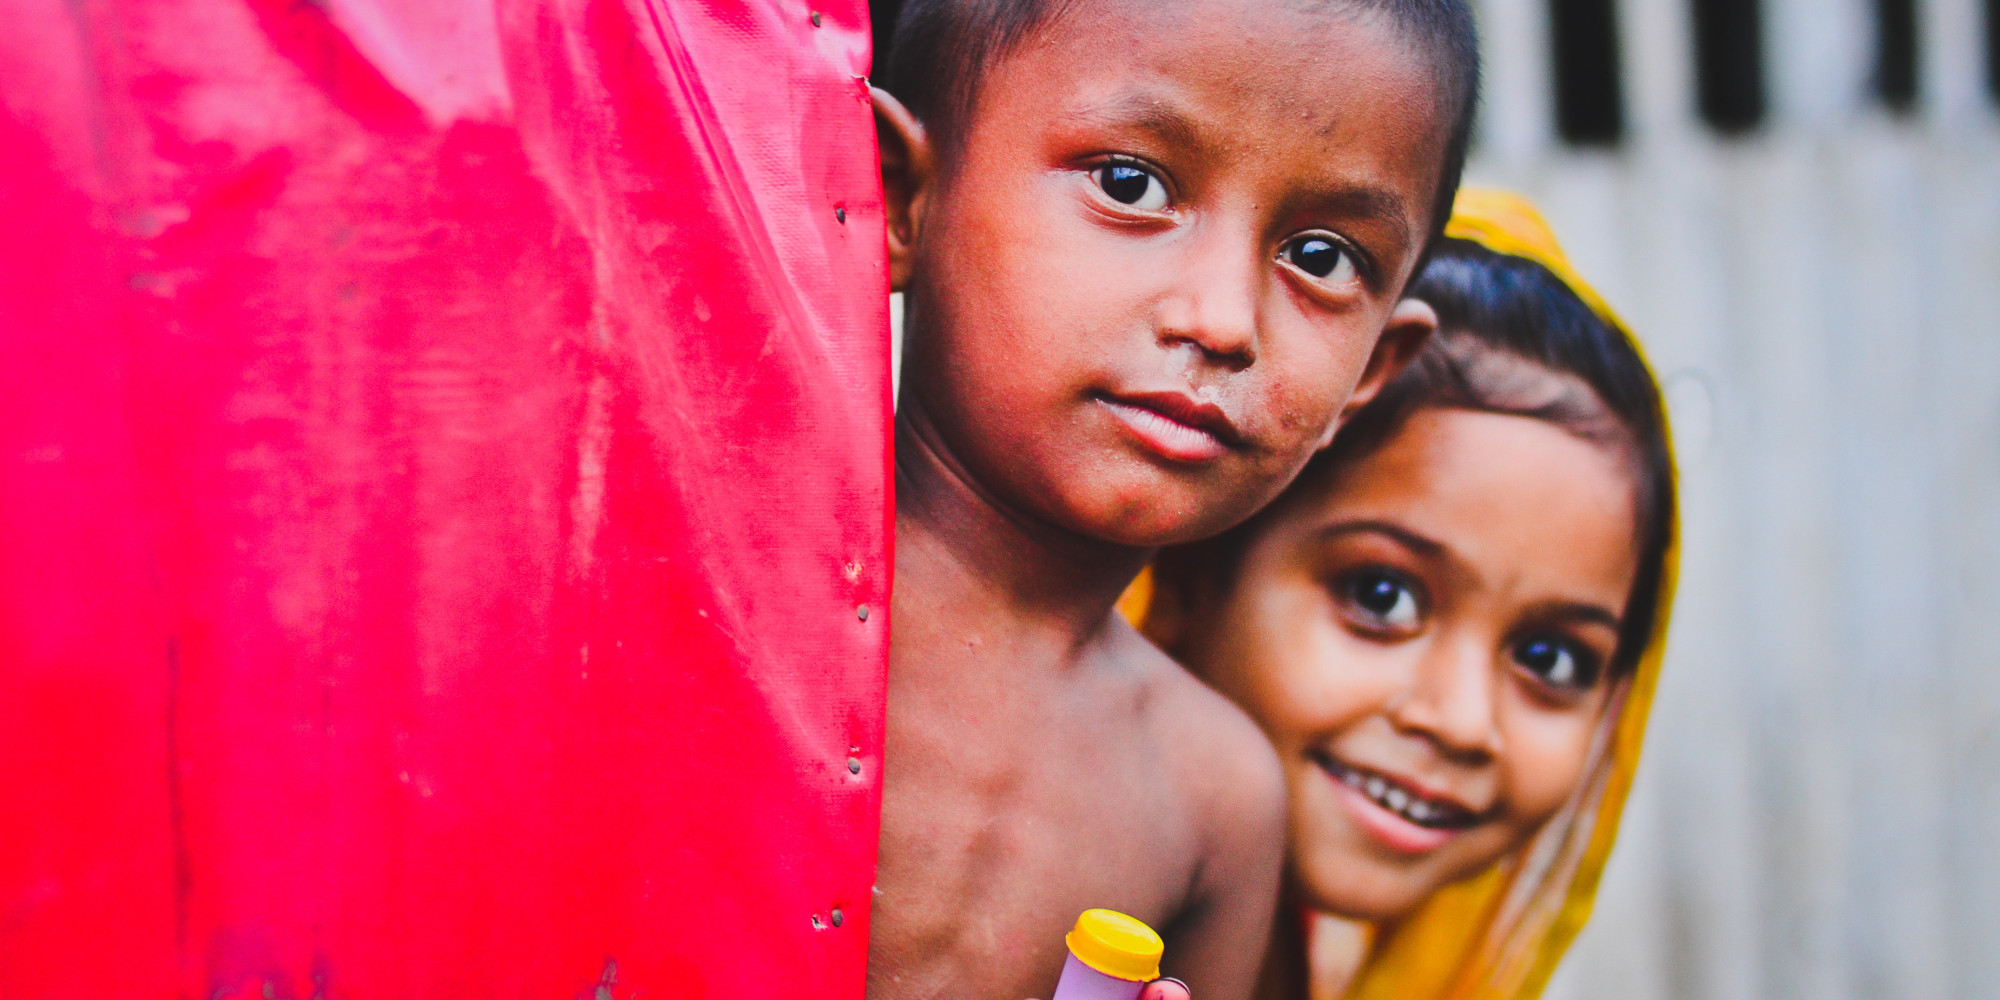human: (843, 2, 1490, 1000), (1206, 188, 1712, 1000)
